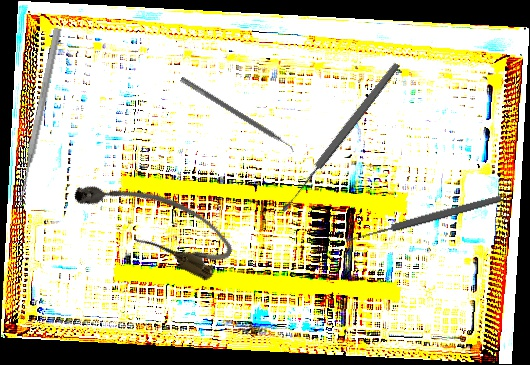Cannula: (66, 156, 241, 286)
Pusher: (15, 27, 63, 204)
Spatula Surgical: (176, 76, 298, 156)
Surgical Spoon: (278, 60, 402, 215), (344, 193, 503, 245)
